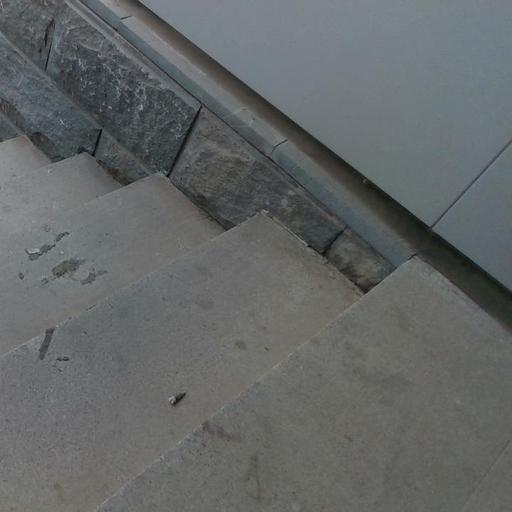stairs: (0, 2, 511, 511), (0, 216, 359, 511), (98, 260, 511, 511), (0, 175, 221, 353)
